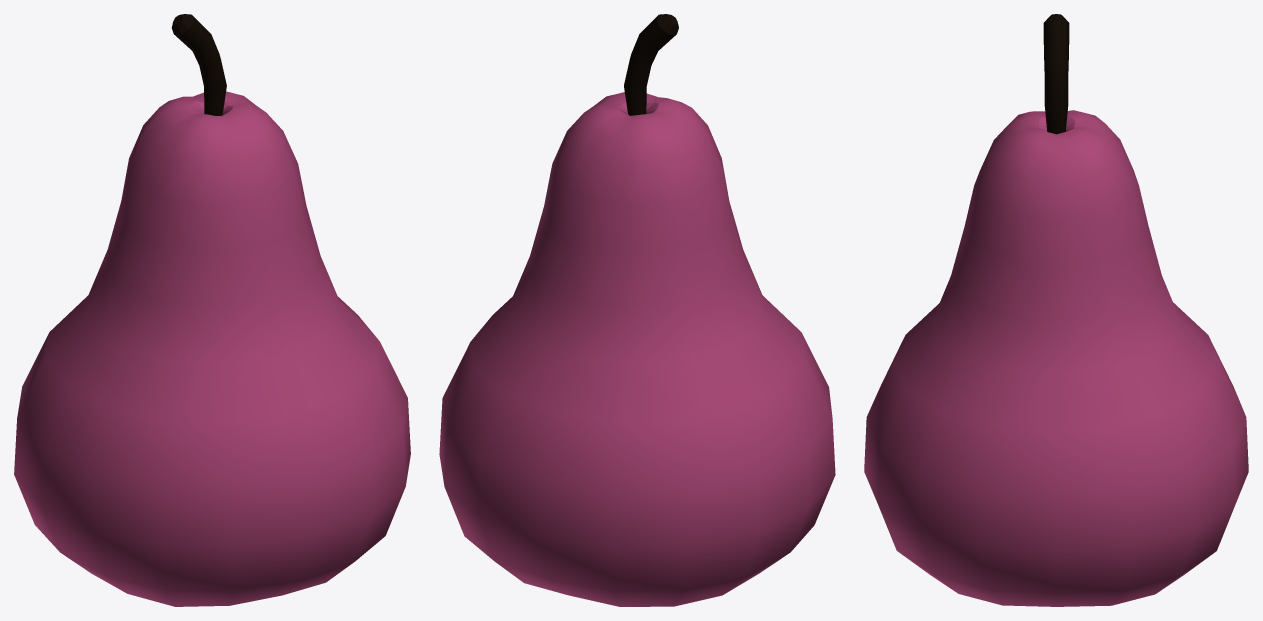
The model's file is Pear.FBX.
The picture shows the model from 3 angles, left to right: view 1: azimuth 30°, elevation 25°; view 2: azimuth 150°, elevation 25°; view 3: azimuth 270°, elevation 25°; orthographic projection. The views are drawn at different scales.
Parts seen in each view (by area): view 1: Pear; view 2: Pear; view 3: Pear.
Part boxes in pixels (x1,y1,x2,y2): Pear: (14,14,410,606); Pear: (439,14,835,606); Pear: (864,14,1248,606).
Size of the model in its own units: 838 by 838 by 1305.
